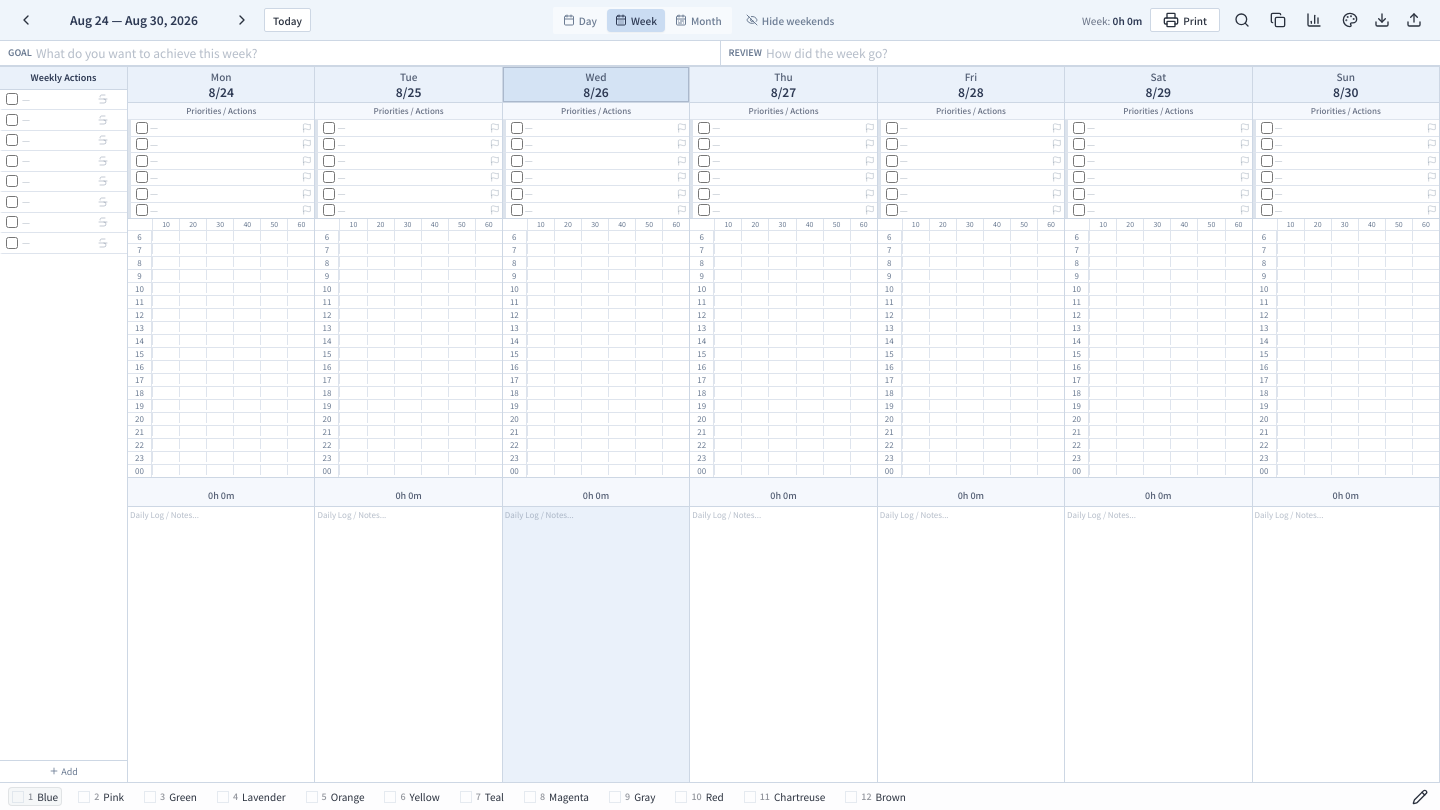
it: the template dialog › names the week it would copy from
The image size is (1440, 810).
Click the button named "copy a week's shape".
click(1278, 20)  # box left=1264, top=6, right=1292, bottom=34
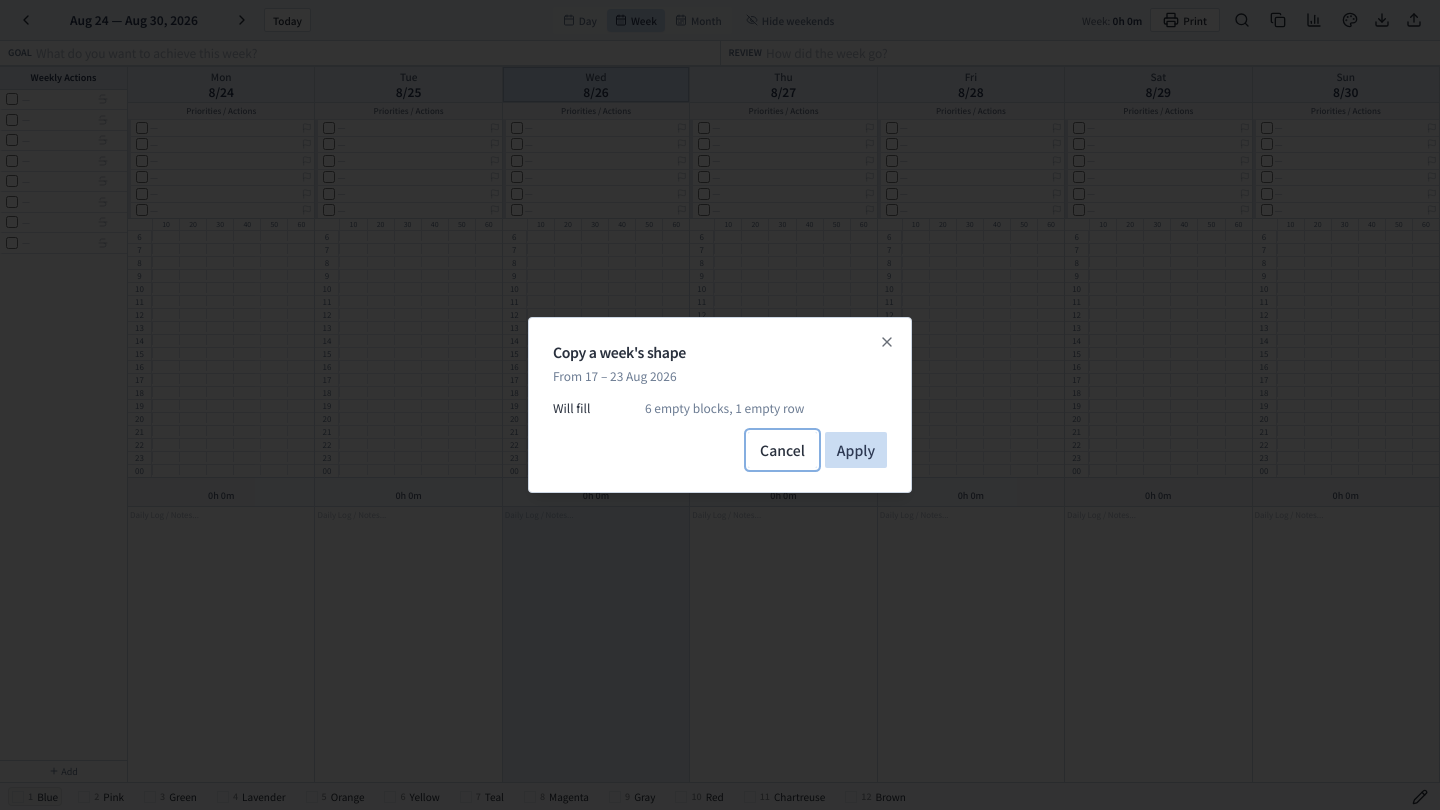
Now the text "From 17 – 23 Aug 2026" is shown, box left=553, top=367, right=677, bottom=384
